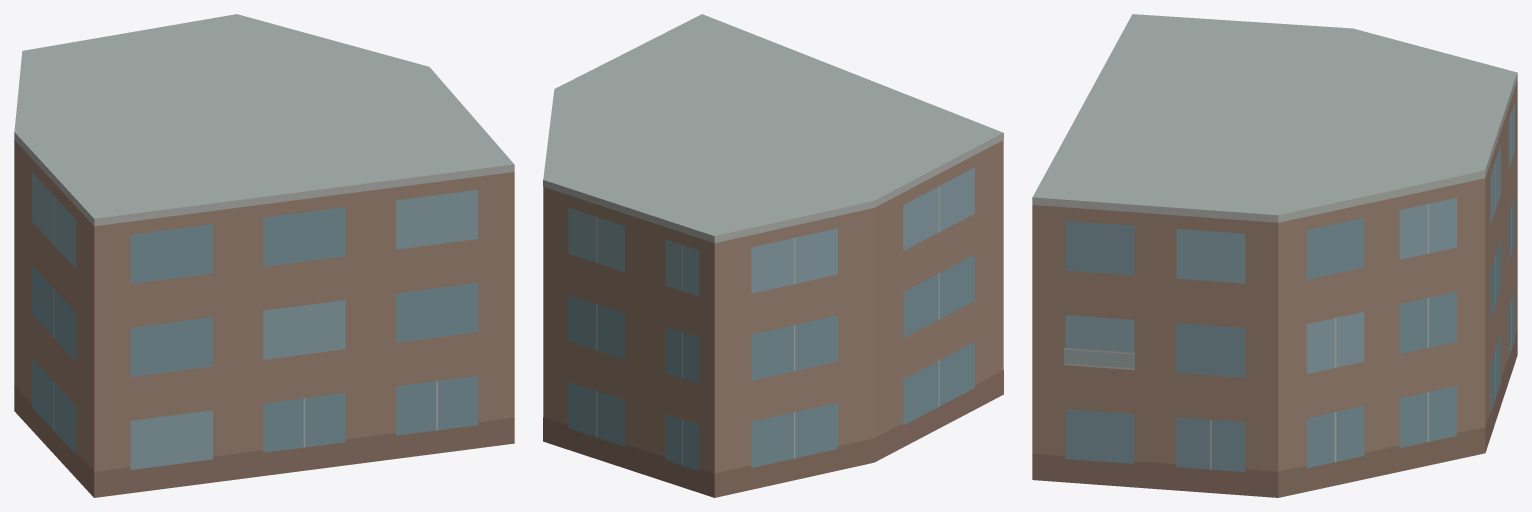
File: survey-upis-32546363.glb
3 views of the same model, side by side, from view 1: azimuth 30°, elevation 25°; view 2: azimuth 150°, elevation 25°; view 3: azimuth 270°, elevation 25° (orthographic). The views are drawn at different scales.
Parts seen in each view (by area): view 1: survey-upis-32546363.tmp; view 2: survey-upis-32546363.tmp; view 3: survey-upis-32546363.tmp.
Part boxes in pixels (<box>): survey-upis-32546363.tmp: <box>14,14,514,497</box>; survey-upis-32546363.tmp: <box>543,14,1003,497</box>; survey-upis-32546363.tmp: <box>1032,14,1517,497</box>.
Size of the model in its own units: 13.99 by 9.15 by 14.25.
